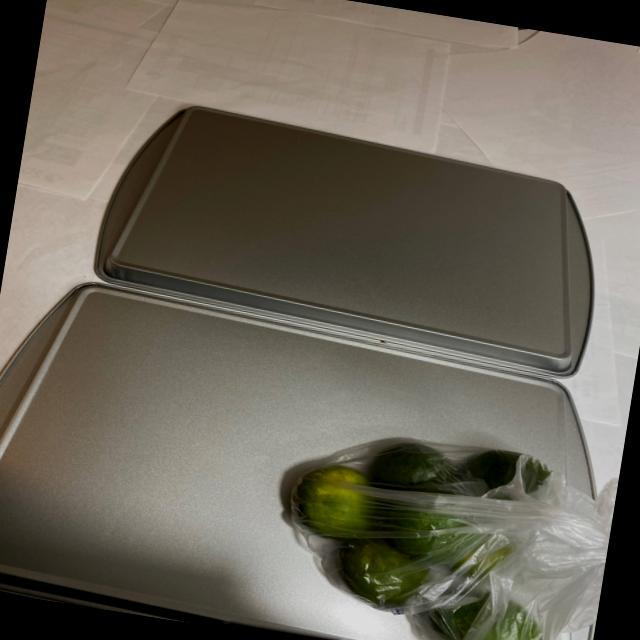lemon: (272, 423, 599, 640)
